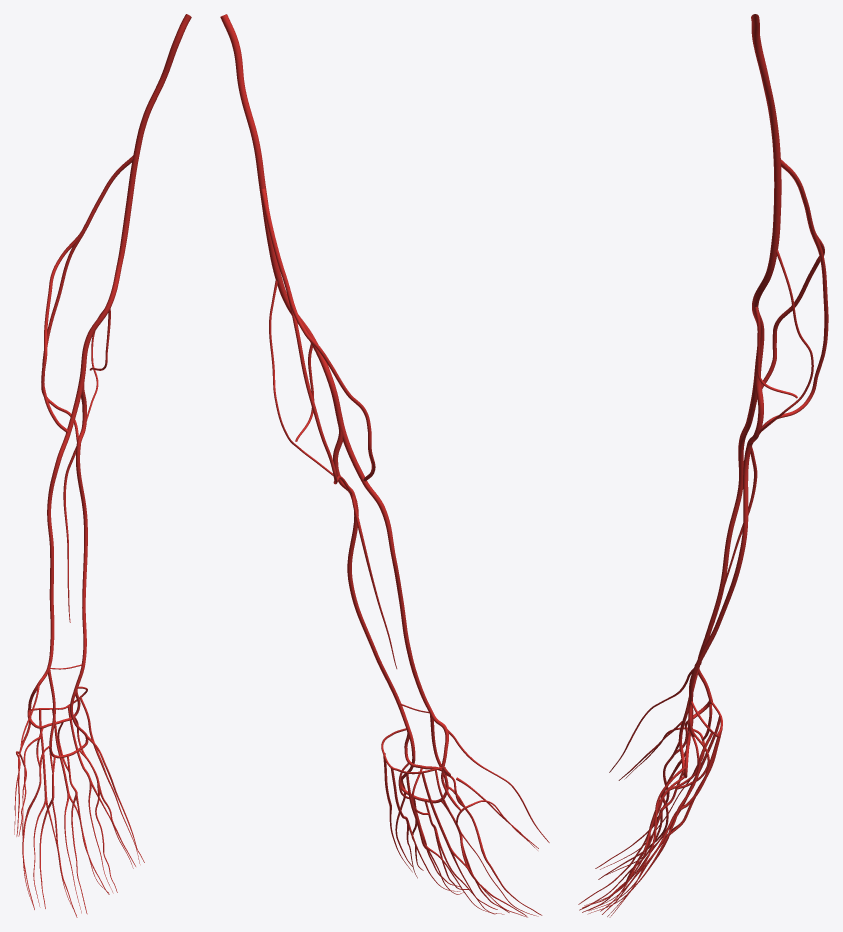
Rendered from circulatorio-brachial-artery-r.glb.
The picture shows the model from 3 angles, left to right: view 1: azimuth 30°, elevation 25°; view 2: azimuth 150°, elevation 25°; view 3: azimuth 270°, elevation 25°; orthographic projection. The views are drawn at different scales.
Visible parts, largest first — view 1: Brachial artery.r, Proper palmar digital arteries.r, Radial artery.r, Dorsal digital arteries of hand.r, Ulnar artery.r, Dorsal metacarpal arteries.r, Radial collateral artery.r, Superficial palmar arch.r, Common palmar digital arteries.r, Posterior interosseous artery.r, Deep brachial artery.r; view 2: Brachial artery.r, Radial artery.r, Proper palmar digital arteries.r, Ulnar artery.r, Dorsal digital arteries of hand.r, Dorsal metacarpal arteries.r, Radial collateral artery.r; view 3: Brachial artery.r, Proper palmar digital arteries.r, Ulnar artery.r, Radial artery.r, Dorsal digital arteries of hand.r, Dorsal metacarpal arteries.r, Radial collateral artery.r, Superior ulnar collateral artery.r, Superficial palmar arch.r, Recurrent interosseous artery.r.
Boxes of the visible parts, bbox=[...] form: Brachial artery.r: bbox=[80, 14, 191, 378]; Proper palmar digital arteries.r: bbox=[16, 685, 144, 917]; Radial artery.r: bbox=[28, 377, 84, 710]; Dorsal digital arteries of hand.r: bbox=[14, 751, 140, 915]; Ulnar artery.r: bbox=[75, 378, 87, 687]; Dorsal metacarpal arteries.r: bbox=[19, 697, 102, 795]; Radial collateral artery.r: bbox=[41, 229, 85, 432]; Superficial palmar arch.r: bbox=[48, 669, 88, 758]; Common palmar digital arteries.r: bbox=[27, 745, 99, 809]; Posterior interosseous artery.r: bbox=[63, 454, 75, 622]; Deep brachial artery.r: bbox=[82, 155, 133, 230]; Brachial artery.r: bbox=[220, 14, 343, 425]; Radial artery.r: bbox=[339, 424, 448, 767]; Proper palmar digital arteries.r: bbox=[395, 729, 549, 916]; Ulnar artery.r: bbox=[333, 424, 409, 729]; Dorsal digital arteries of hand.r: bbox=[389, 800, 538, 917]; Dorsal metacarpal arteries.r: bbox=[383, 753, 461, 846]; Radial collateral artery.r: bbox=[287, 293, 375, 481]; Brachial artery.r: bbox=[751, 14, 781, 372]; Proper palmar digital arteries.r: bbox=[578, 668, 693, 914]; Ulnar artery.r: bbox=[689, 371, 763, 701]; Radial artery.r: bbox=[694, 372, 757, 701]; Dorsal digital arteries of hand.r: bbox=[584, 727, 704, 917]; Dorsal metacarpal arteries.r: bbox=[674, 704, 722, 818]; Radial collateral artery.r: bbox=[761, 230, 824, 389]; Superior ulnar collateral artery.r: bbox=[776, 249, 813, 413]; Superficial palmar arch.r: bbox=[678, 665, 700, 778]; Recurrent interosseous artery.r: bbox=[760, 327, 828, 433].
Size of the model in its own units: 0.1993 by 0.6589 by 0.1492.
